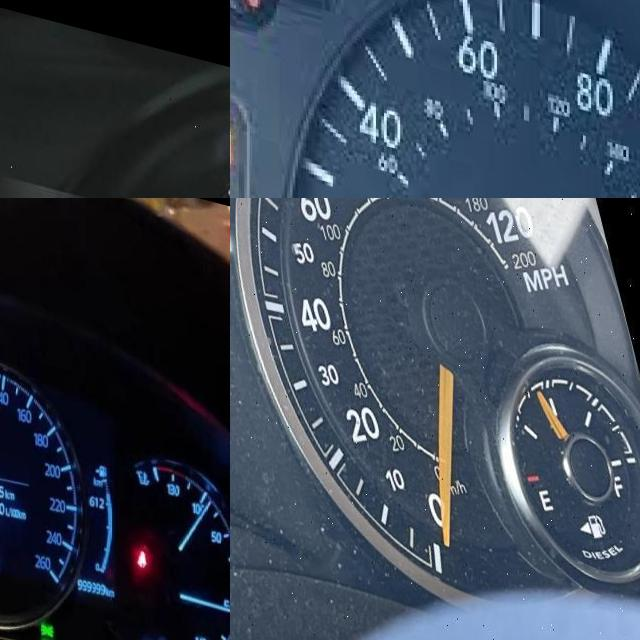Seat Belt: (135, 522, 148, 548)
